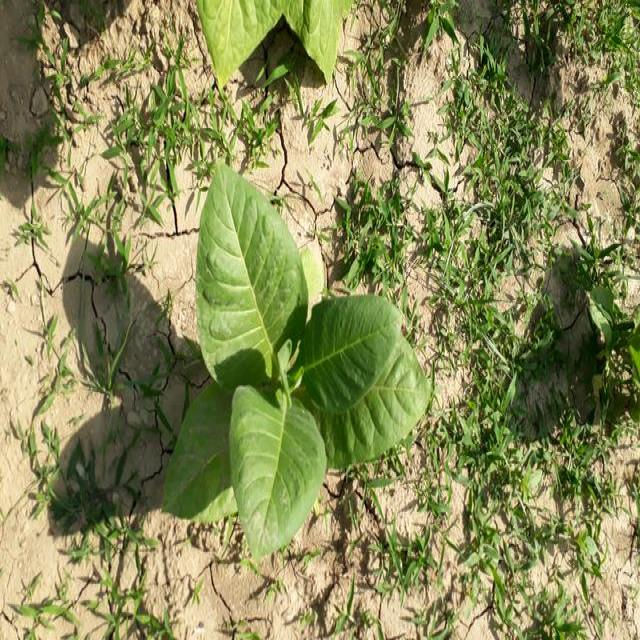crop: (166, 175, 422, 538), (198, 0, 352, 89)
